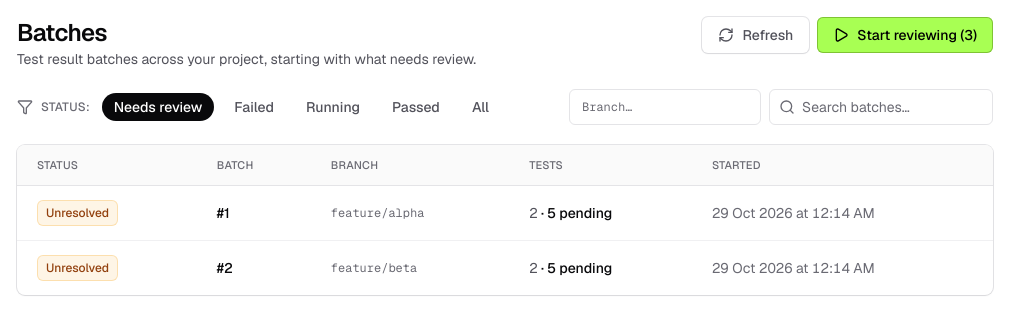
Test: Batches: branch and search in the URL › a search narrows the rows as the reviewer types, before the URL catches up
In the search field with test id "inbox-search-input": (881, 107) [769, 89, 993, 125], type "alpha"
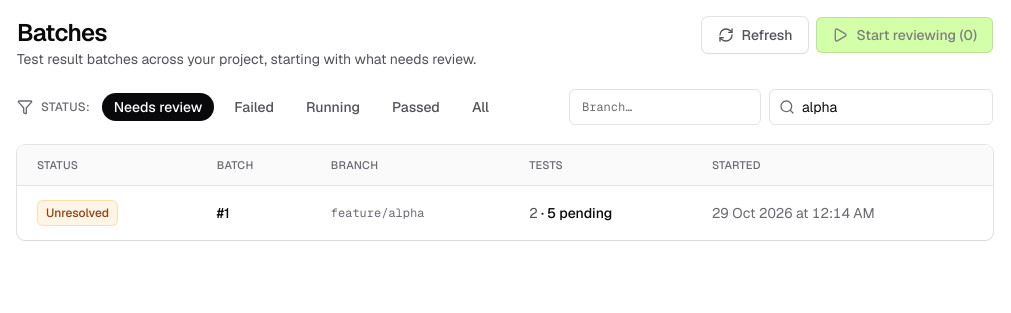
Expected: the row with test id "inbox-batch-row-b1" is shown, [17, 186, 993, 240]
Expected: the row with test id "inbox-batch-row-b2" is gone
